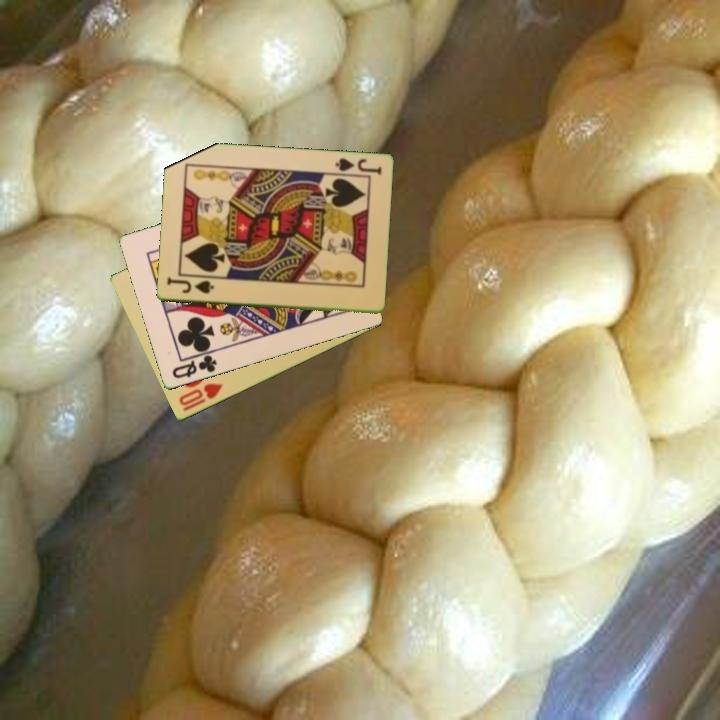10h: (175, 380, 226, 414)
Js: (332, 155, 384, 178), (163, 275, 216, 297)
Qc: (168, 348, 220, 382)
